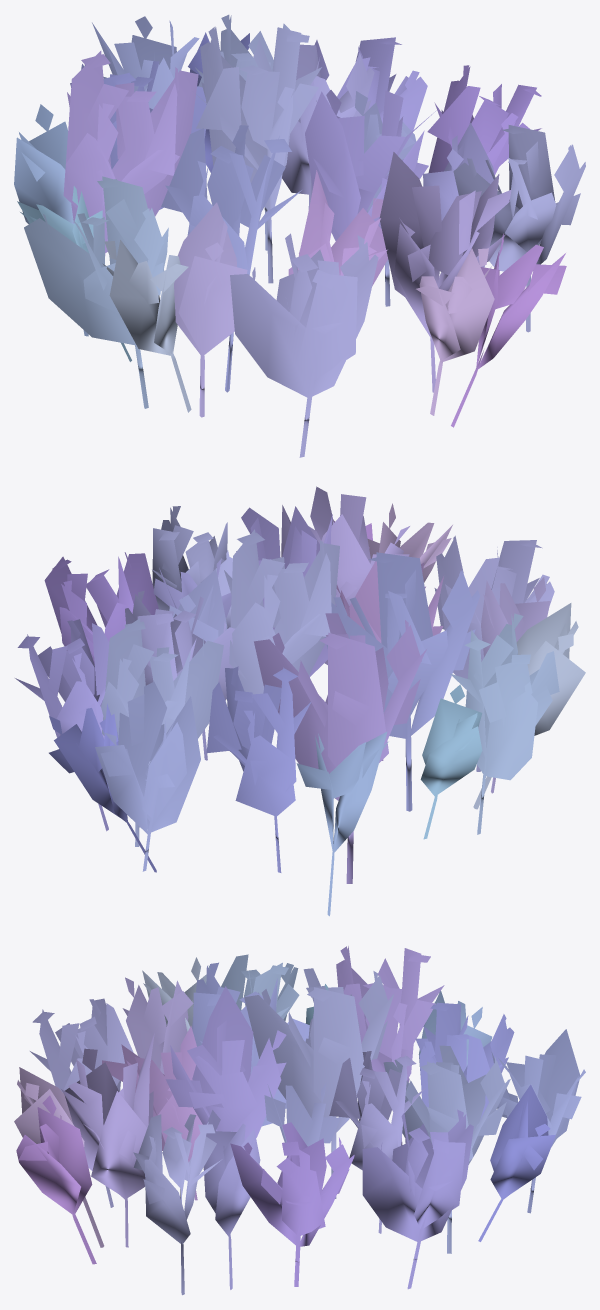
3 views of the same model, one above another, from view 1: azimuth 30°, elevation 25°; view 2: azimuth 150°, elevation 25°; view 3: azimuth 270°, elevation 25° (orthographic). The views are drawn at different scales.
Parts seen in each view (by area): view 1: SM_BS_Daisy_Yellow_100cm_HD; view 2: SM_BS_Daisy_Yellow_100cm_HD; view 3: SM_BS_Daisy_Yellow_100cm_HD.
Part boxes in pixels (bbox=[...]): SM_BS_Daisy_Yellow_100cm_HD: bbox=[14, 14, 585, 457]; SM_BS_Daisy_Yellow_100cm_HD: bbox=[15, 486, 585, 916]; SM_BS_Daisy_Yellow_100cm_HD: bbox=[14, 946, 585, 1295].
Size of the model in its own units: 88.61 by 79.61 by 47.13.
